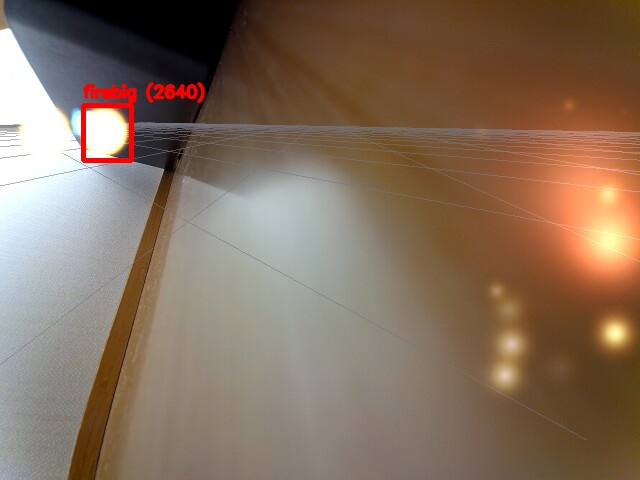firebig: (83, 105, 131, 160)
